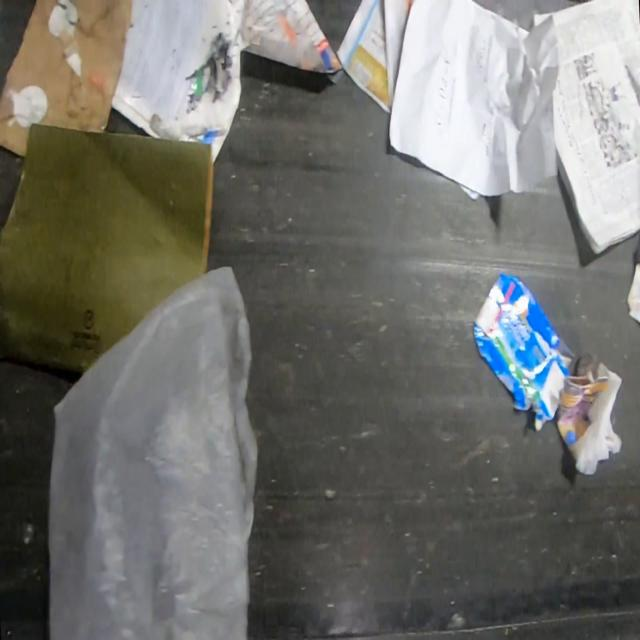cardboard: (0, 123, 214, 378), (0, 0, 136, 156), (472, 273, 572, 435)
soft_plastic: (47, 265, 258, 639)
